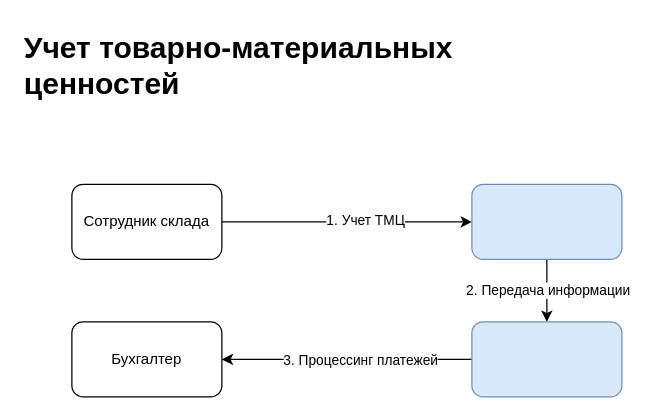
This 651x419 diagram has some shape labels left out. Each missing label, with the box of its shape:
1С Бухгалтерия предприятия: (471, 321, 622, 397)
1С Торговля и склад: (471, 183, 622, 259)
